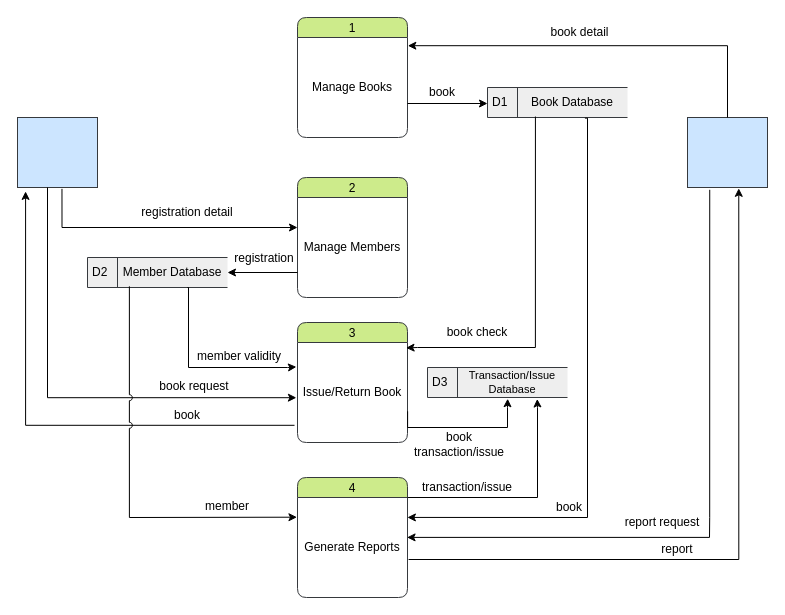
Image size: 785x615. Some labels were removed from this diagram. Each missing label, with the centre of its shape:
"Client" belongs at pixel 57 152.
"Librarian" belongs at pixel 727 152.
